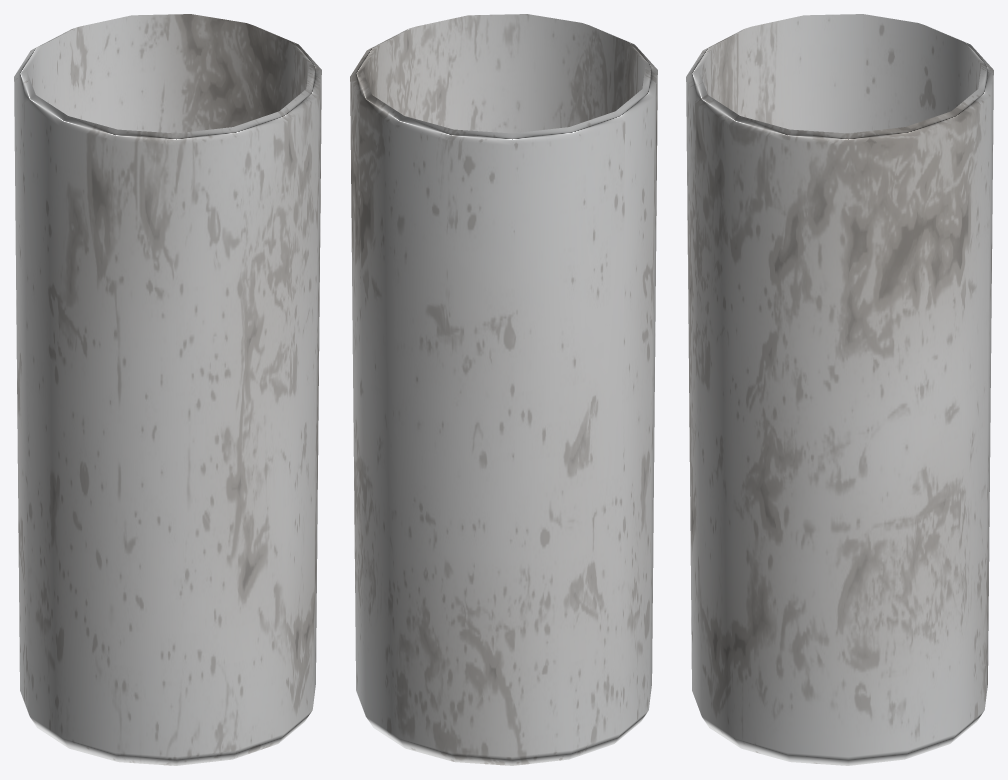
File: GlassTall.fbx
The picture shows the model from 3 angles, left to right: view 1: azimuth 30°, elevation 25°; view 2: azimuth 150°, elevation 25°; view 3: azimuth 270°, elevation 25°; orthographic projection.
Visible parts, largest first — view 1: Default_Layer; view 2: Default_Layer; view 3: Default_Layer.
Boxes of the visible parts, x1=… form: Default_Layer: x1=14, y1=14, x2=321, y2=765; Default_Layer: x1=350, y1=14, x2=657, y2=765; Default_Layer: x1=686, y1=14, x2=993, y2=765.
Bounding box in the file's own units: 20.28 × 46.03 × 20.28.
